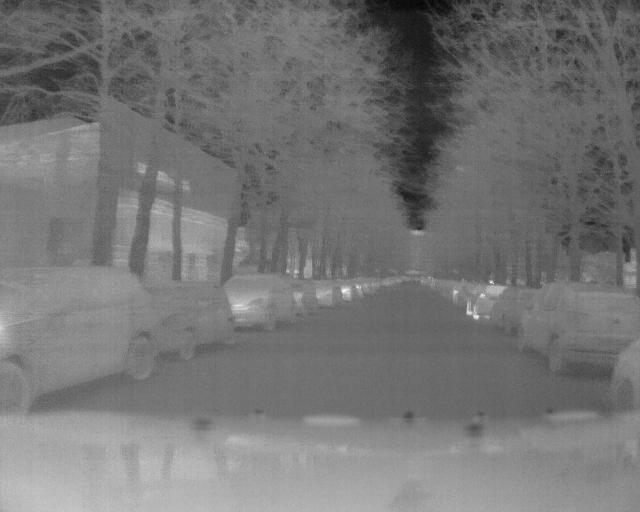car: (6, 255, 158, 398), (522, 290, 640, 367), (159, 269, 232, 358), (237, 264, 300, 328), (492, 282, 519, 333)
